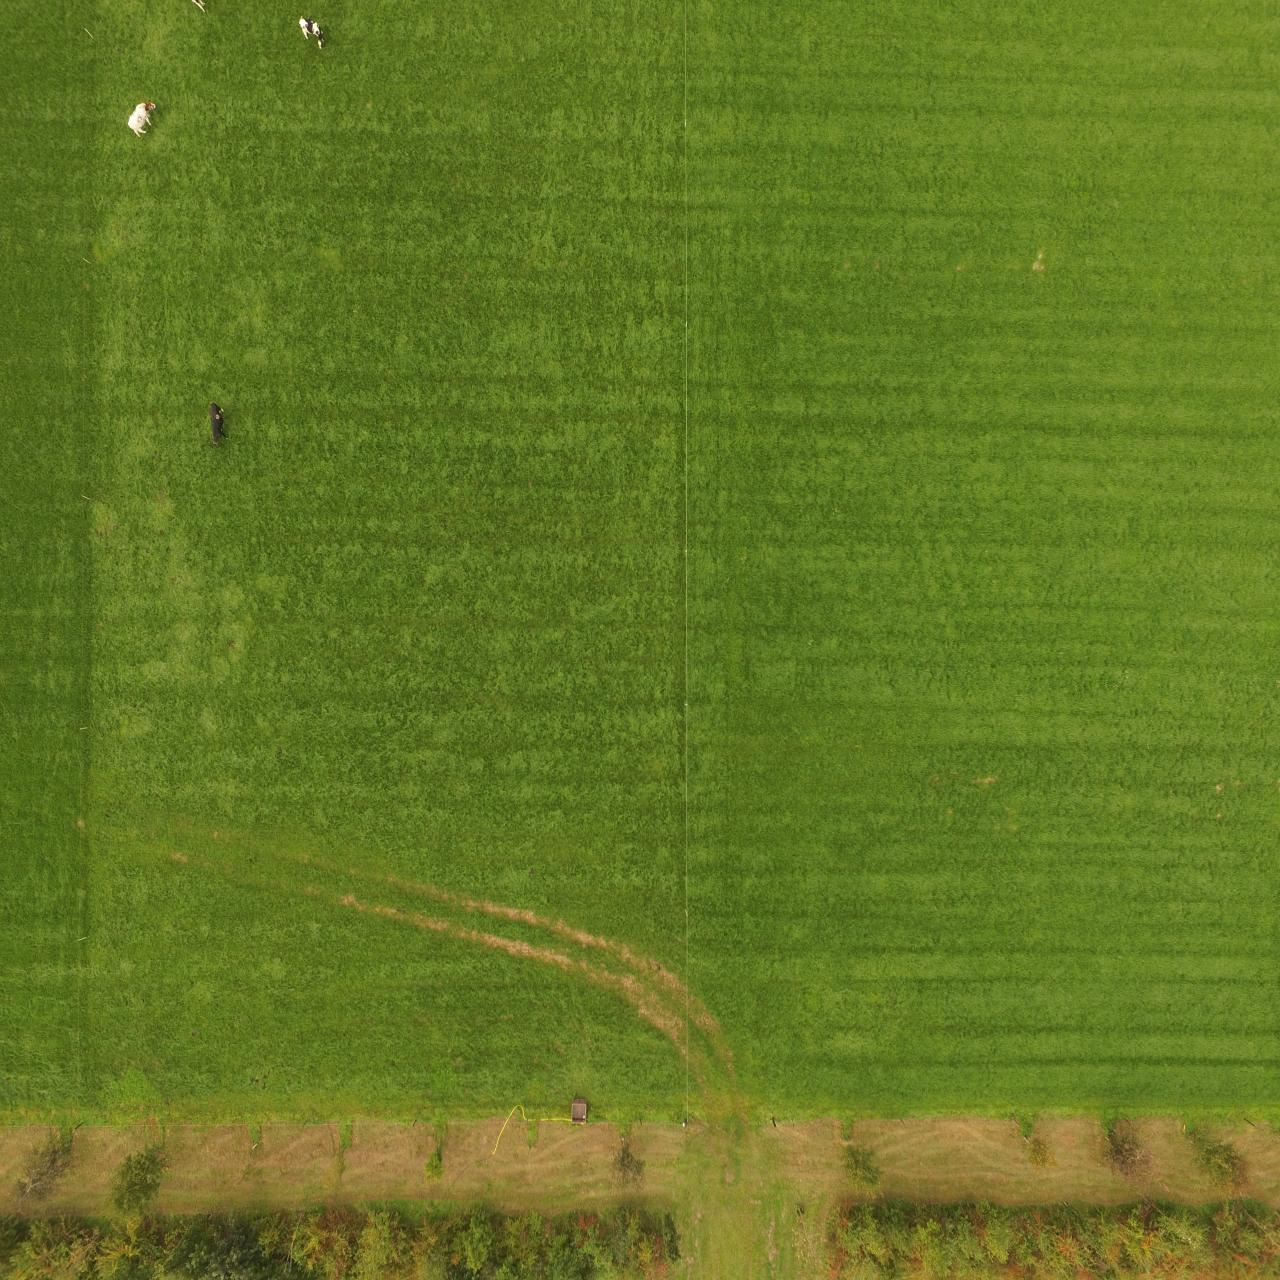cow: (128, 94, 159, 136), (295, 14, 328, 50), (206, 402, 229, 445)
